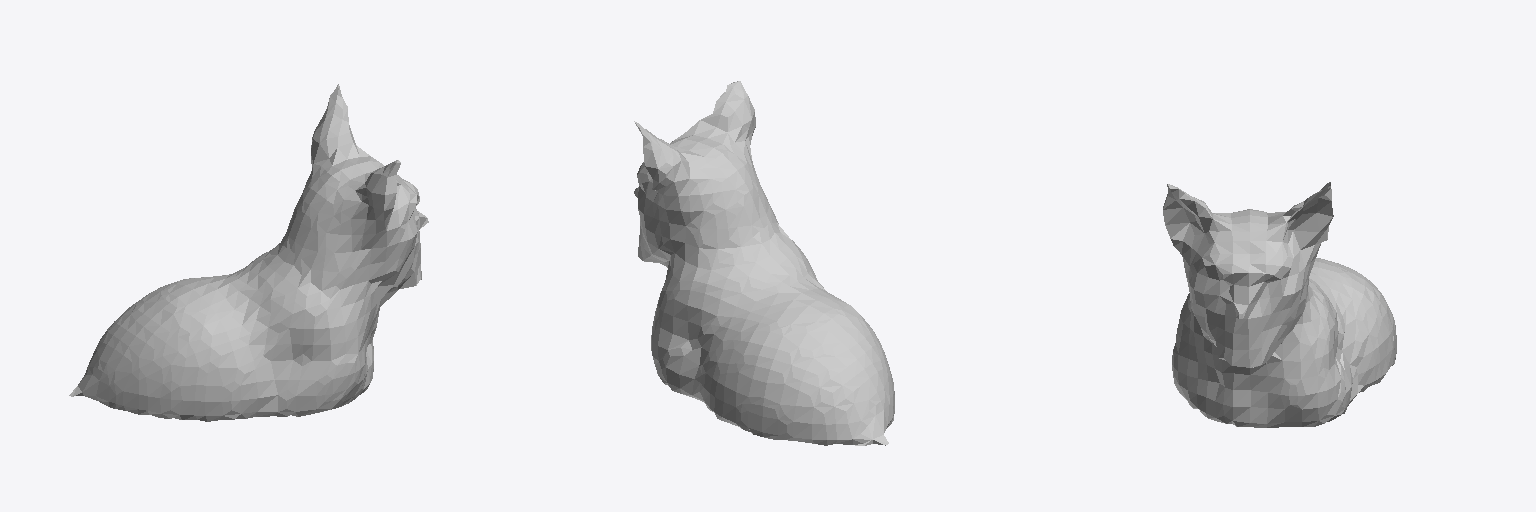
The model's file is cat.obj.
3 renders of one model, left to right at view 1: azimuth 30°, elevation 25°; view 2: azimuth 150°, elevation 25°; view 3: azimuth 270°, elevation 25°, orthographic.
Parts seen in each view (by area): view 1: tripo_node_4c70ba3f-c5ad-4416-899e-e2f99c9093ab; view 2: tripo_node_4c70ba3f-c5ad-4416-899e-e2f99c9093ab; view 3: tripo_node_4c70ba3f-c5ad-4416-899e-e2f99c9093ab.
Part boxes in pixels (x1,y1,x2,y2): tripo_node_4c70ba3f-c5ad-4416-899e-e2f99c9093ab: (69,84,428,421); tripo_node_4c70ba3f-c5ad-4416-899e-e2f99c9093ab: (634,81,894,445); tripo_node_4c70ba3f-c5ad-4416-899e-e2f99c9093ab: (1163,182,1396,427).
Size of the model in its own units: 1 by 0.8001 by 0.6667.